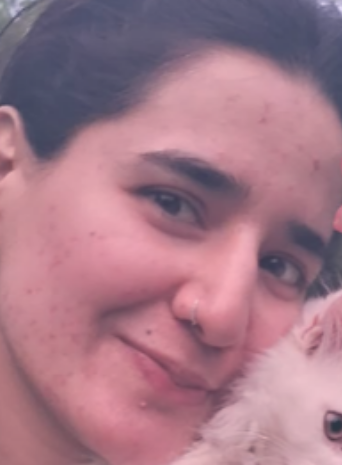pustule: (135, 389, 167, 424)
